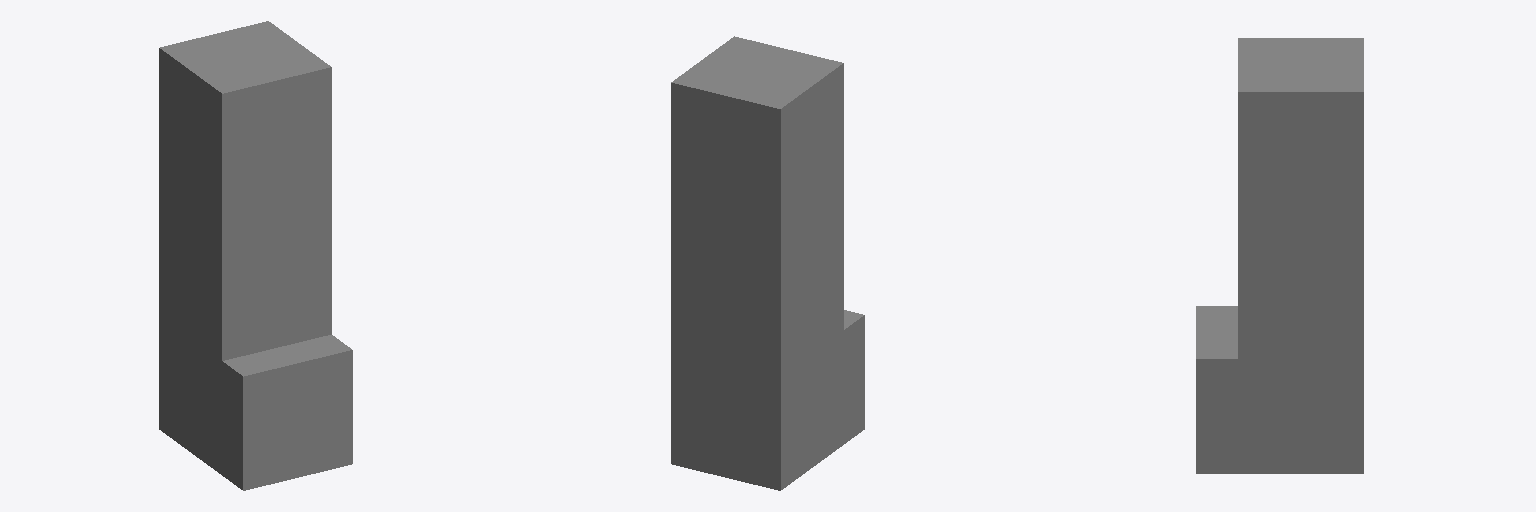
Rendered from arm_right.obj.
The picture shows the model from 3 angles: view 1: azimuth 30°, elevation 25°; view 2: azimuth 150°, elevation 25°; view 3: azimuth 270°, elevation 25°; orthographic projection.
Parts seen in each view (by area): view 1: arm_right; view 2: arm_right; view 3: arm_right.
Boxes of the visible parts, x1,y1,x2,y2 form: arm_right: [159, 21, 352, 490]; arm_right: [671, 36, 864, 490]; arm_right: [1196, 38, 1363, 473].
Size of the model in its own units: 0.1476 by 0.4921 by 0.1968.